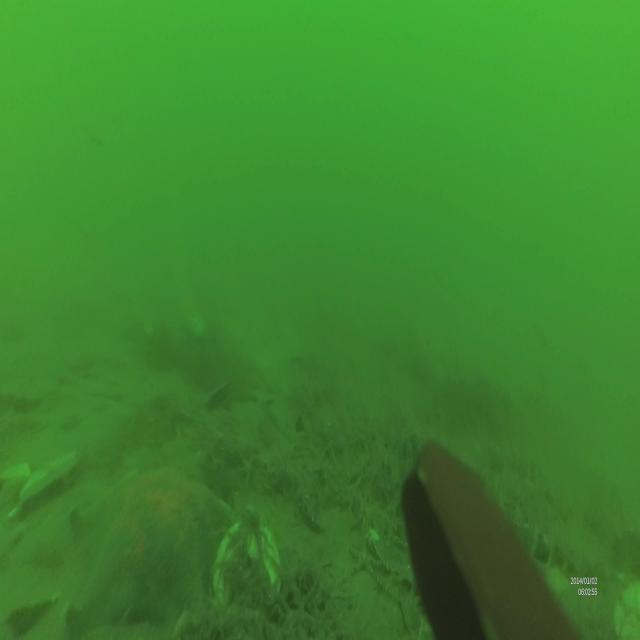scallop: (212, 511, 282, 611), (17, 453, 81, 515)
starfish: (68, 455, 238, 640), (346, 534, 389, 588)
